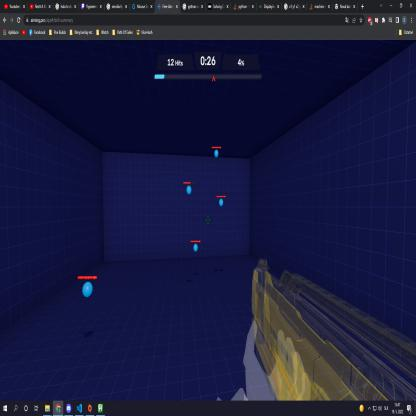sphere: (80, 280, 95, 298), (213, 149, 220, 160), (186, 185, 192, 196), (218, 198, 224, 207), (193, 243, 199, 252)
